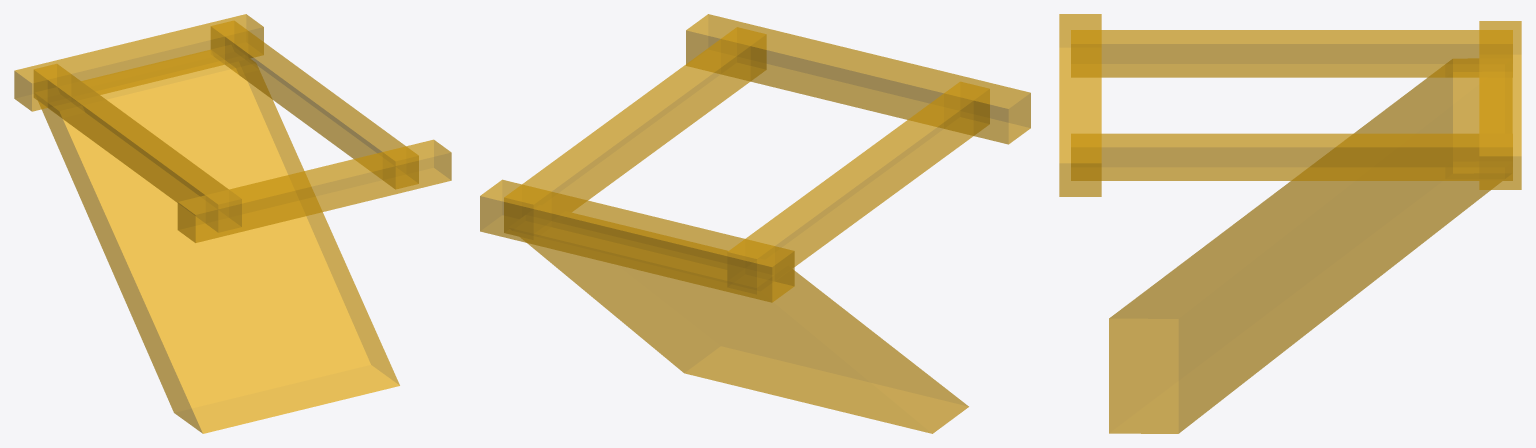
The model's file is SM_Veh_Ship_Stairs_02_Collision.fbx.
The picture shows the model from 3 angles, left to right: view 1: azimuth 30°, elevation 25°; view 2: azimuth 150°, elevation 25°; view 3: azimuth 270°, elevation 25°; orthographic projection. The views are drawn at different scales.
Parts seen in each view (by area): view 1: SM_Veh_Ship_Stairs_02_Collision; view 2: SM_Veh_Ship_Stairs_02_Collision; view 3: SM_Veh_Ship_Stairs_02_Collision.
Boxes of the visible parts, x1,y1,x2,y2 form: SM_Veh_Ship_Stairs_02_Collision: (14,14,451,433); SM_Veh_Ship_Stairs_02_Collision: (480,14,1030,433); SM_Veh_Ship_Stairs_02_Collision: (1059,14,1521,433).
Bounding box in the file's own units: 358 × 322 × 467.
